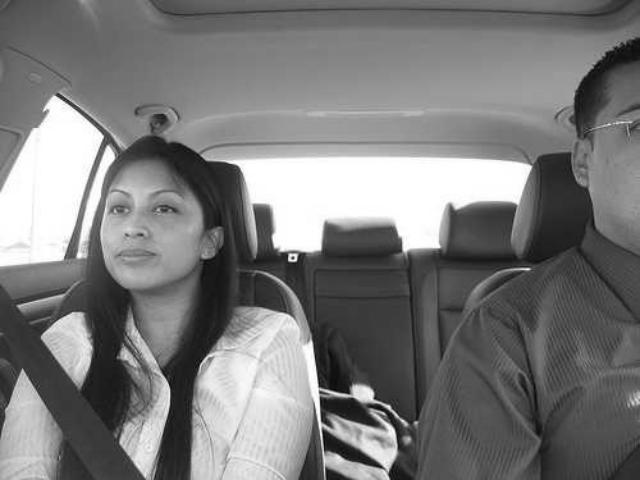SafeDriving: (147, 194, 186, 221), (102, 192, 134, 221)
Seatbelt: (0, 272, 154, 480)
